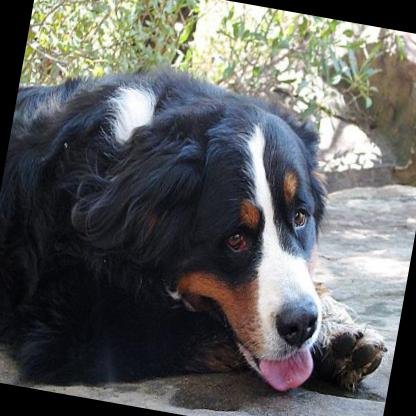Bernese_mountain_dog: (0, 43, 416, 416)
